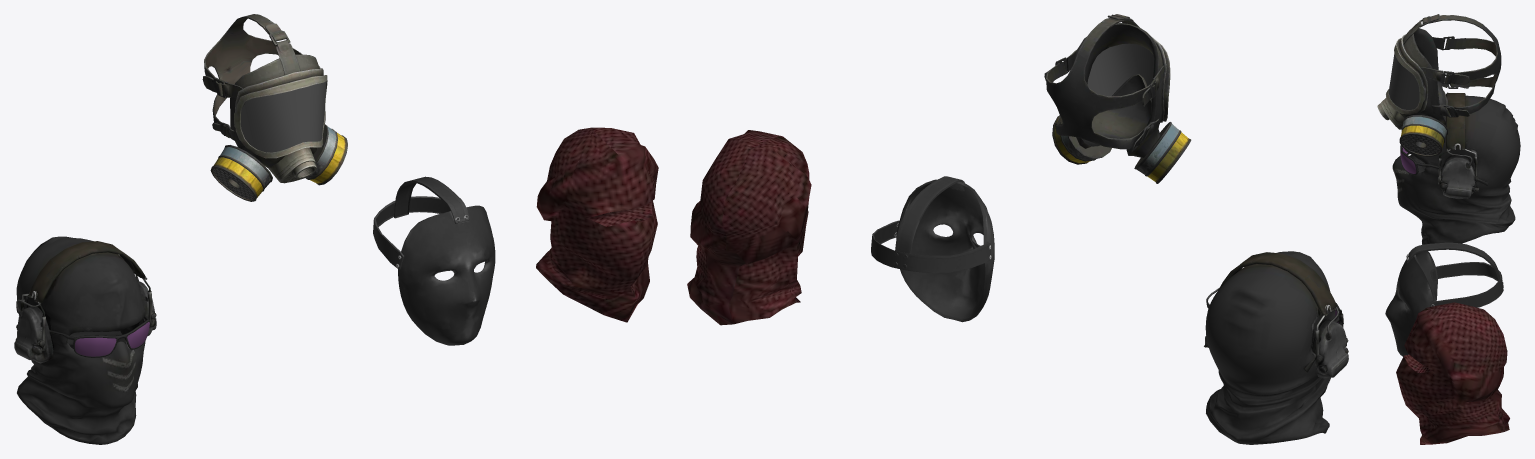
File: pacco_teste.glb
3 renders of one model, left to right at view 1: azimuth 30°, elevation 25°; view 2: azimuth 150°, elevation 25°; view 3: azimuth 270°, elevation 25°, orthographic. The views are drawn at different scales.
Parts seen in each view (by area): view 1: HoodMask, Shemagh_1, GasMask, Mask_ballistic; view 2: HoodMask, Shemagh_1, GasMask, Mask_ballistic; view 3: HoodMask, Shemagh_1, GasMask, Mask_ballistic.
Part boxes in pixels (left/top/right/bottom): HoodMask: left=14, top=236, right=156, bottom=444; Shemagh_1: left=536, top=127, right=658, bottom=322; GasMask: left=202, top=14, right=347, bottom=201; Mask_ballistic: left=373, top=176, right=495, bottom=345; HoodMask: left=1204, top=251, right=1348, bottom=444; Shemagh_1: left=687, top=130, right=811, bottom=325; GasMask: left=1044, top=14, right=1191, bottom=183; Mask_ballistic: left=871, top=176, right=994, bottom=322; HoodMask: left=1392, top=92, right=1520, bottom=244; Shemagh_1: left=1396, top=302, right=1509, bottom=444; GasMask: left=1377, top=14, right=1501, bottom=156; Mask_ballistic: left=1385, top=242, right=1503, bottom=356.
Size of the model in its own units: 1.25 by 0.7045 by 0.3087.
Materials: 6 (4 with a texture image).
